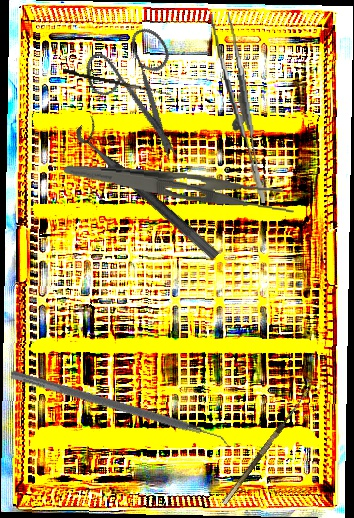Dressing Forceps: (62, 163, 297, 217)
Fixation Ring: (71, 114, 231, 262)
Hook Surgical: (215, 381, 314, 506), (62, 68, 173, 96)
Iris Scissors: (63, 11, 225, 166)
Spatula Surgical: (6, 369, 236, 453)
Tissue Forceps: (210, 10, 266, 207)
